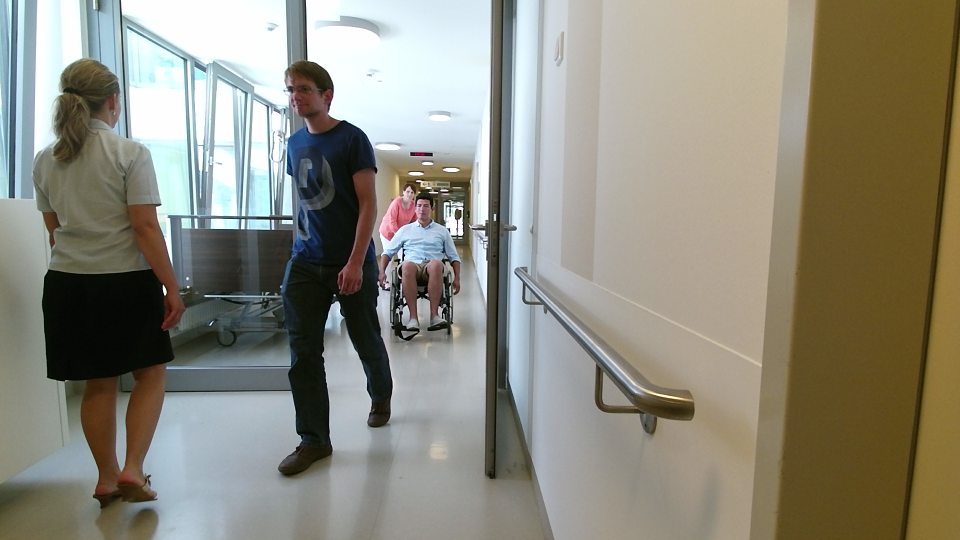wheelchair: (384, 190, 465, 345)
